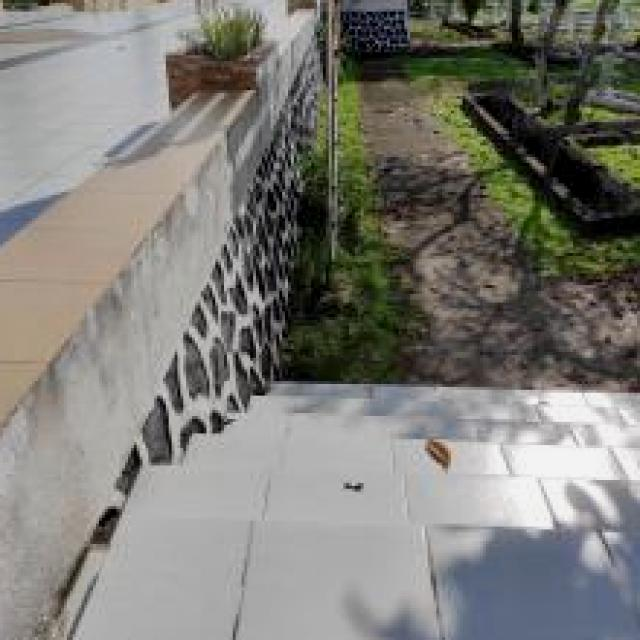downstair: (143, 344, 640, 591)
